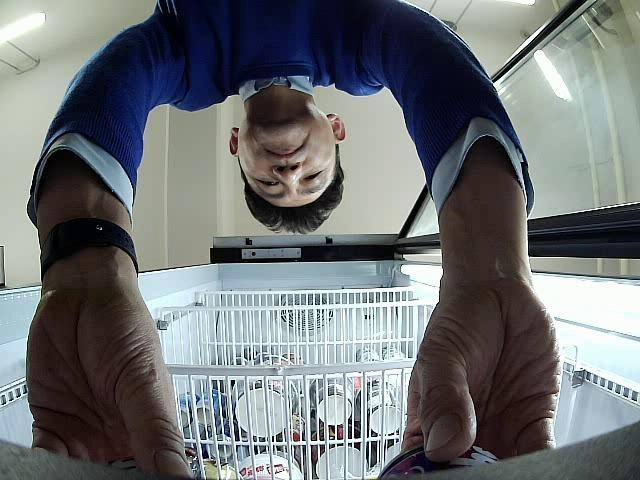14_welchsGrape: (383, 446, 503, 480)
